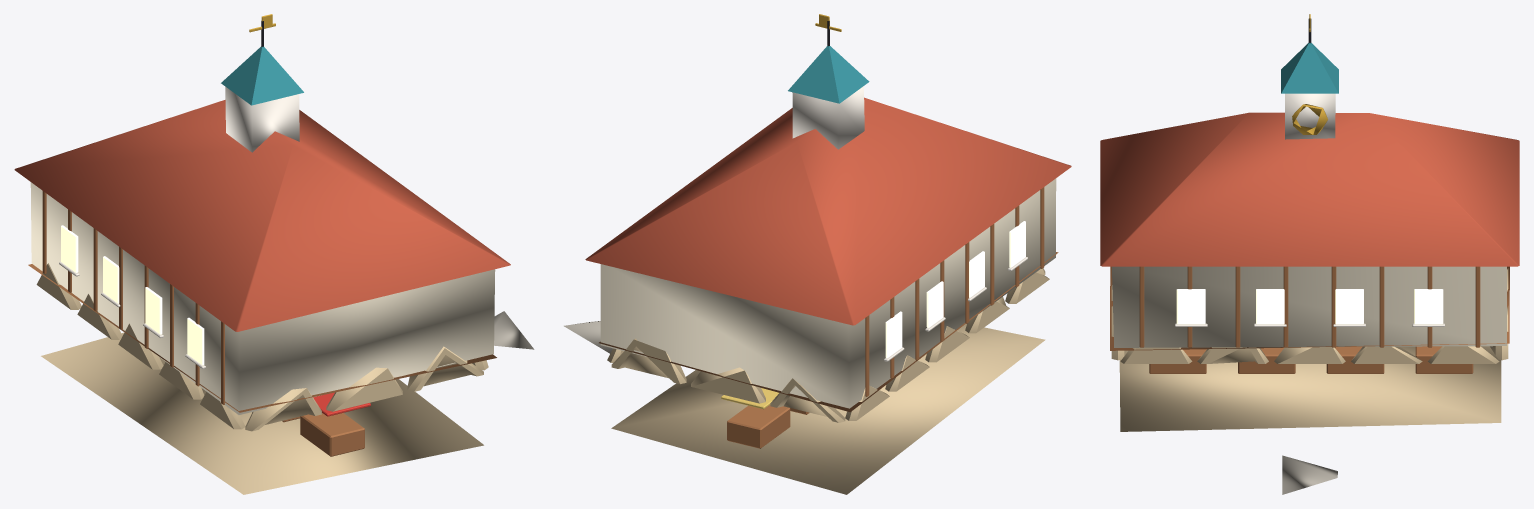
File: market_hall.glb
The picture shows the model from 3 angles, left to right: view 1: azimuth 30°, elevation 25°; view 2: azimuth 150°, elevation 25°; view 3: azimuth 270°, elevation 25°; orthographic projection. The views are drawn at different scales.
Visible parts, largest first — view 1: market_hall; view 2: market_hall; view 3: market_hall.
Boxes of the visible parts, left/top/right/bottom form: market_hall: left=14, top=14, right=534, bottom=494; market_hall: left=564, top=14, right=1071, bottom=494; market_hall: left=1100, top=14, right=1519, bottom=494.
Size of the model in its own units: 17.88 by 16.67 by 17.47.
Materials: 1 (1 with a texture image).
